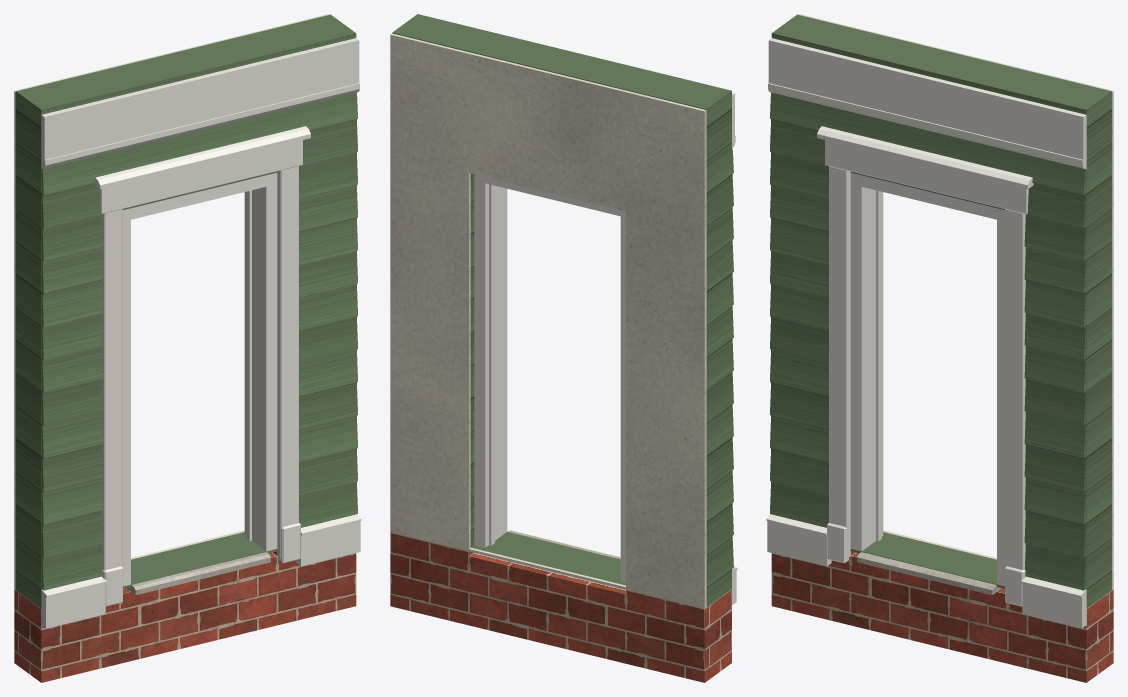
File: wall_siding_door.glb
3 renders of one model, left to right at view 1: azimuth 30°, elevation 25°; view 2: azimuth 150°, elevation 25°; view 3: azimuth 330°, elevation 25°, orthographic.
Parts seen in each view (by area): view 1: wall_siding_door_siding, wall_siding_door_trim, wall_siding_door_brick, wall_siding_door_frame, wall_siding_door_plaster, wall_siding_door_cap; view 2: wall_siding_door_plaster, wall_siding_door_siding, wall_siding_door_brick, wall_siding_door_frame; view 3: wall_siding_door_siding, wall_siding_door_trim, wall_siding_door_brick, wall_siding_door_frame, wall_siding_door_plaster, wall_siding_door_cap.
Part boxes in pixels (left/top/right/bottom): wall_siding_door_siding: left=16, top=14, right=357, bottom=608; wall_siding_door_trim: left=41, top=38, right=361, bottom=628; wall_siding_door_brick: left=14, top=551, right=356, bottom=682; wall_siding_door_frame: left=123, top=172, right=277, bottom=586; wall_siding_door_plaster: left=14, top=14, right=329, bottom=589; wall_siding_door_cap: left=126, top=552, right=270, bottom=594; wall_siding_door_plaster: left=390, top=33, right=706, bottom=608; wall_siding_door_siding: left=392, top=14, right=733, bottom=606; wall_siding_door_brick: left=390, top=532, right=731, bottom=682; wall_siding_door_frame: left=474, top=174, right=625, bottom=581; wall_siding_door_siding: left=770, top=14, right=1111, bottom=608; wall_siding_door_trim: left=766, top=38, right=1086, bottom=628; wall_siding_door_brick: left=771, top=551, right=1113, bottom=682; wall_siding_door_frame: left=850, top=172, right=1004, bottom=586; wall_siding_door_plaster: left=798, top=14, right=1113, bottom=589; wall_siding_door_cap: left=857, top=552, right=1001, bottom=594.
Size of the model in its own units: 2 by 3.48 by 0.375.
6 materials, 4 textured.
